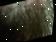plaque psoriasis: (38, 4, 55, 37), (0, 0, 34, 15), (39, 0, 53, 5)
